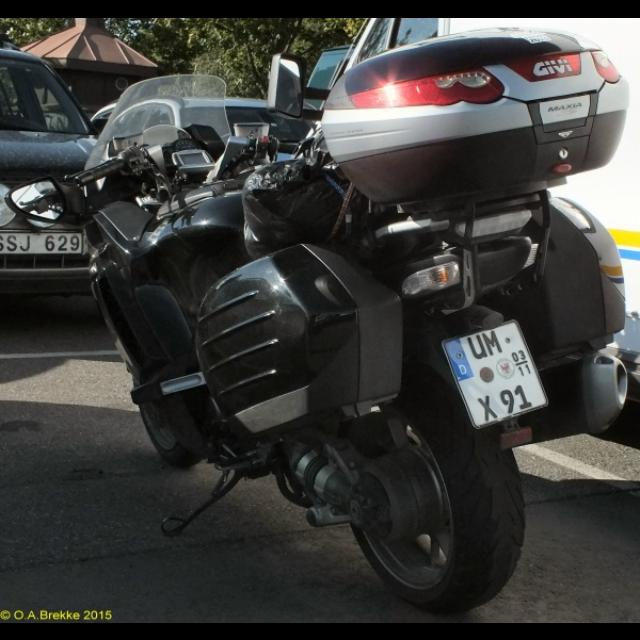d_license_plate: (441, 319, 547, 426)
